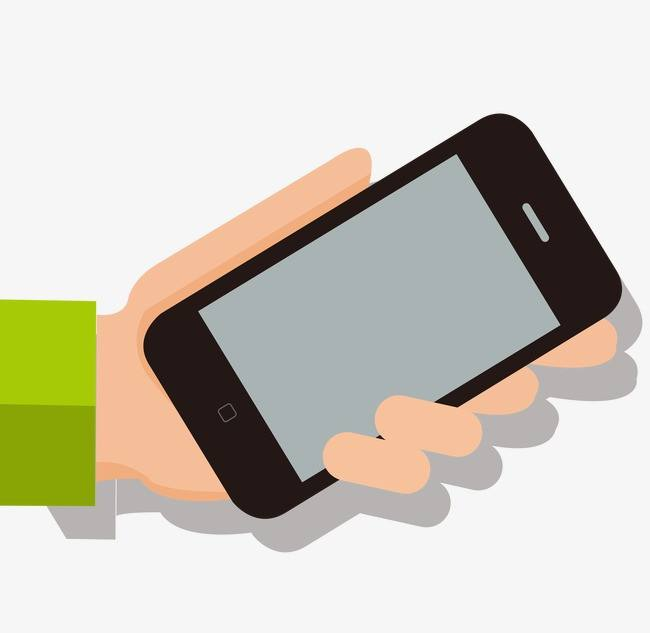phone: (87, 107, 633, 544)
